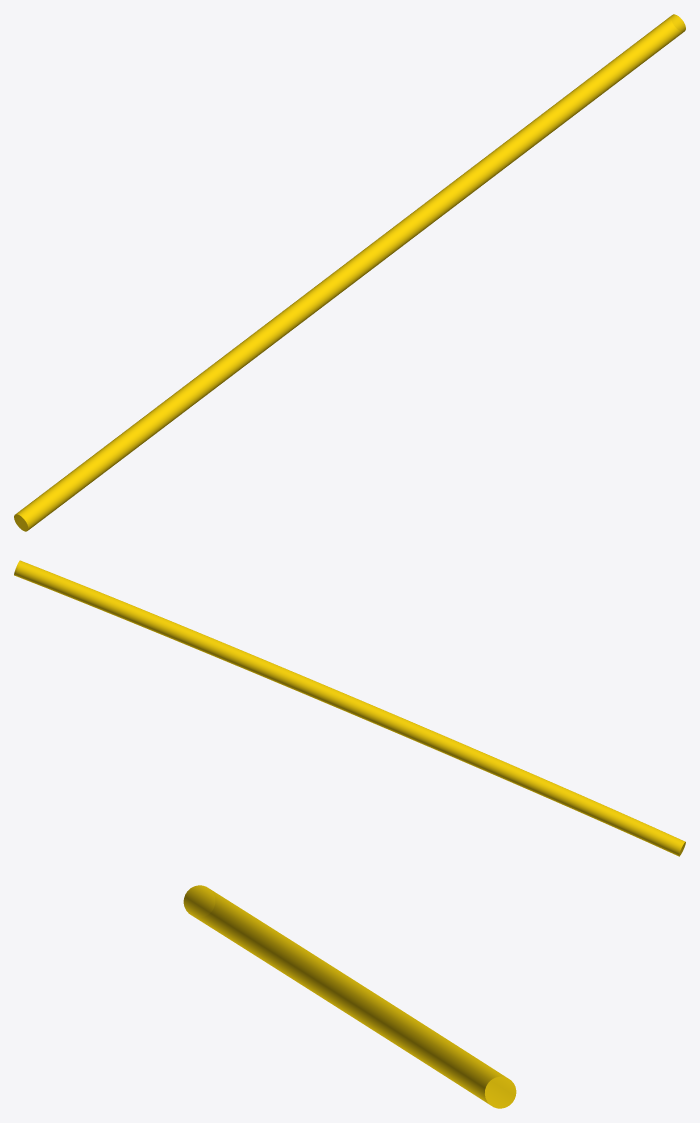
File: Event_421278790_track_10.fbx
3 views of the same model, one above another, from view 1: azimuth 30°, elevation 25°; view 2: azimuth 150°, elevation 25°; view 3: azimuth 270°, elevation 25° (orthographic). The views are drawn at different scales.
Visible parts, largest first — view 1: Model; view 2: Model; view 3: Model.
Boxes of the visible parts, box(x1,y1,x2,y2) form: Model: box(14, 14, 685, 531); Model: box(14, 560, 685, 856); Model: box(183, 885, 516, 1108).
Bounding box in the file's own units: 1.69 × 0.5608 × 0.4096.
